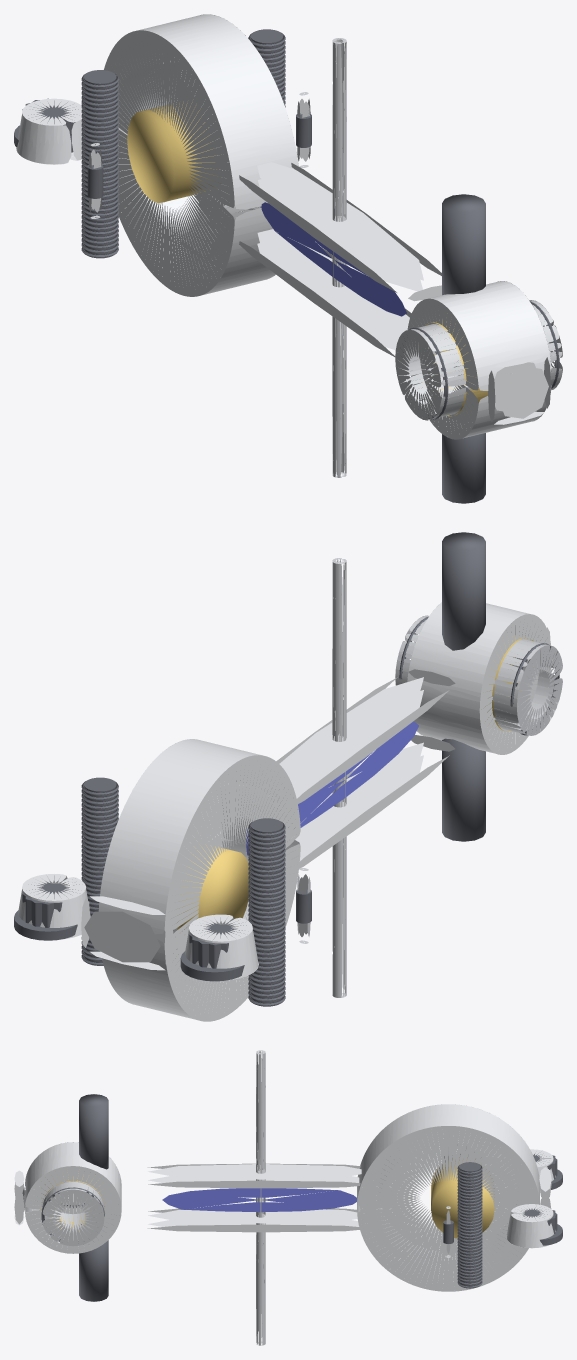
Rendered from connecting-rod.glb.
3 renders of one model, top to bottom at view 1: azimuth 30°, elevation 25°; view 2: azimuth 150°, elevation 25°; view 3: azimuth 270°, elevation 25°, orthographic. The views are drawn at different scales.
Visible parts, largest first — view 1: ARP_Bolt_Spud_Boss_Seat_1, DLC_Wrist_Pin_Segment, ARP_12Point_Flange_Head_1, GEO_Rod_ARPBolts, GEO_Rod_BronzeBushing, H_Beam_Central_Web_Plate, Bearing_Shell_Locking_Tang_Left; view 2: ARP_Bolt_Spud_Boss_Seat_1, ARP_12Point_Flange_Head_1, DLC_Wrist_Pin_Segment, GEO_Rod_ARPBolts, GEO_Rod_BronzeBushing, H_Beam_Central_Web_Plate, Bearing_Shell_Locking_Tang_Left; view 3: ARP_Bolt_Spud_Boss_Seat_1, DLC_Wrist_Pin_Segment, ARP_12Point_Flange_Head_1, H_Beam_Central_Web_Plate, GEO_Rod_ARPBolts, GEO_Rod_BronzeBushing.
Part boxes in pixels (box(x1,y1,x2,y2)): ARP_Bolt_Spud_Boss_Seat_1: box(16, 14, 551, 439); DLC_Wrist_Pin_Segment: box(88, 38, 562, 477); ARP_12Point_Flange_Head_1: box(14, 29, 559, 419); GEO_Rod_ARPBolts: box(442, 194, 485, 503); GEO_Rod_BronzeBushing: box(127, 99, 220, 203); H_Beam_Central_Web_Plate: box(260, 202, 406, 316); Bearing_Shell_Locking_Tang_Left: box(118, 57, 260, 262); ARP_Bolt_Spud_Boss_Seat_1: box(18, 602, 551, 1021); ARP_12Point_Flange_Head_1: box(14, 617, 559, 1006); DLC_Wrist_Pin_Segment: box(297, 558, 562, 997); GEO_Rod_ARPBolts: box(442, 532, 485, 841); GEO_Rod_BronzeBushing: box(177, 844, 248, 931); H_Beam_Central_Web_Plate: box(246, 721, 418, 857); Bearing_Shell_Locking_Tang_Left: box(171, 781, 276, 988); ARP_Bolt_Spud_Boss_Seat_1: box(14, 1104, 555, 1291); DLC_Wrist_Pin_Segment: box(22, 1050, 450, 1345); ARP_12Point_Flange_Head_1: box(41, 1152, 562, 1288); H_Beam_Central_Web_Plate: box(162, 1188, 356, 1212); GEO_Rod_ARPBolts: box(79, 1094, 108, 1301); GEO_Rod_BronzeBushing: box(431, 1157, 494, 1238).
Size of the model in its own units: 0.067 by 0.1194 by 0.2039.
